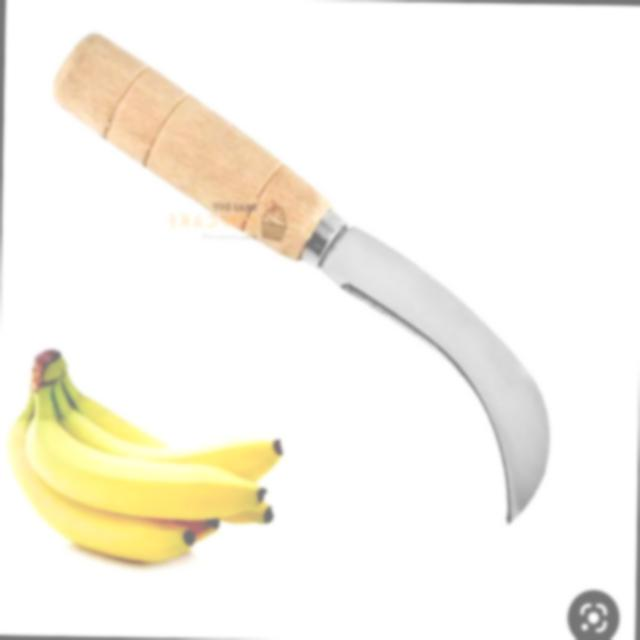knife: (16, 19, 568, 549)
